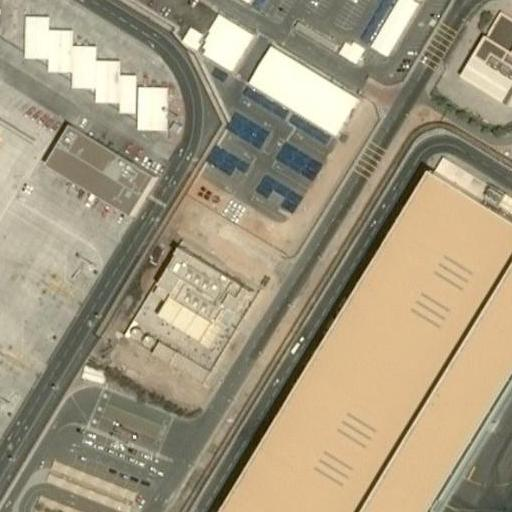Aircraft: (505, 464, 512, 512)
